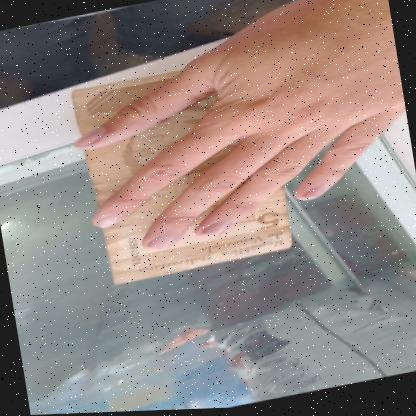five-front-vef: (72, 54, 294, 289)
